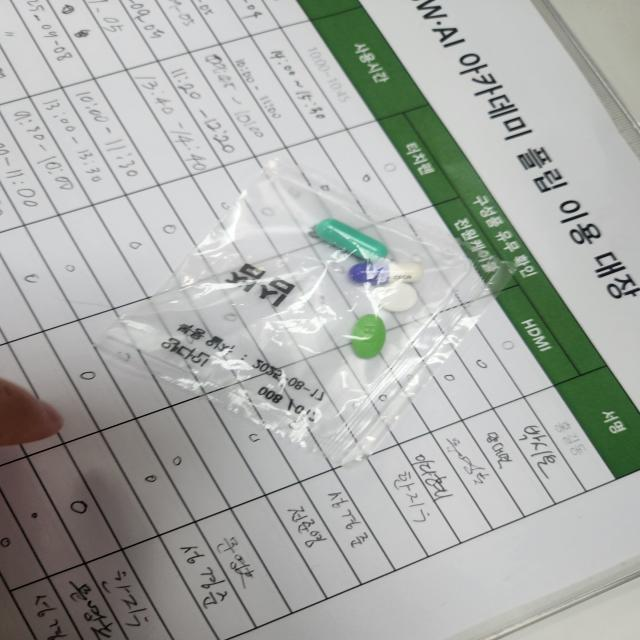러키펜정: (377, 281, 417, 311)
씨엠지세파클러캡슐: (351, 263, 422, 285)
에르도캡슐: (316, 218, 391, 259)
휴티렌정: (350, 313, 386, 361)
